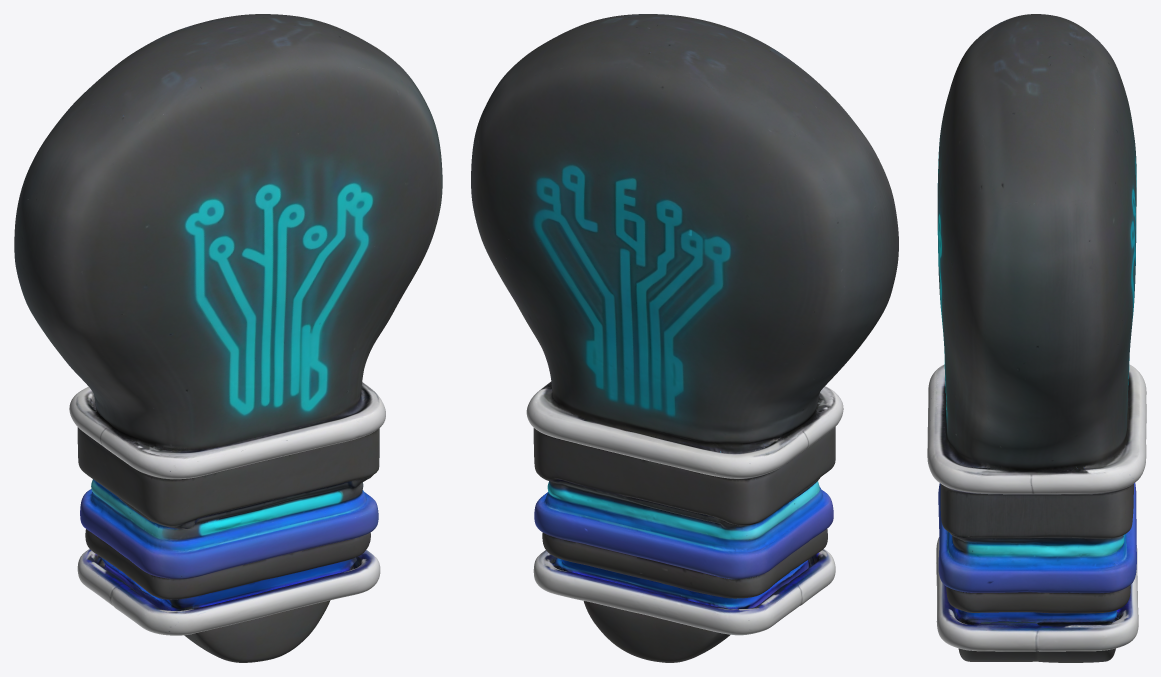
Rendered from Lightbulb.glb.
3 views of the same model, side by side, from view 1: azimuth 30°, elevation 25°; view 2: azimuth 150°, elevation 25°; view 3: azimuth 270°, elevation 25° (orthographic).
Size of the model in its own units: 1.4 by 2 by 0.6496.
Materials: 1 (1 with a texture image).
